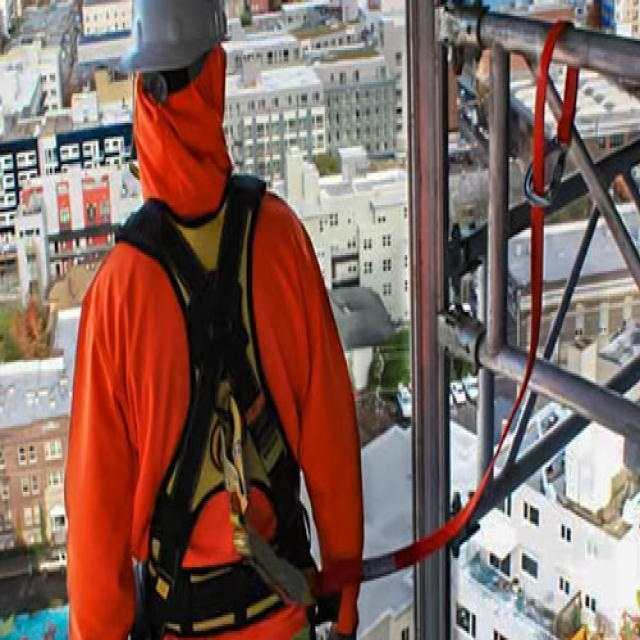Arnes_seguridad: (152, 213, 337, 638)
